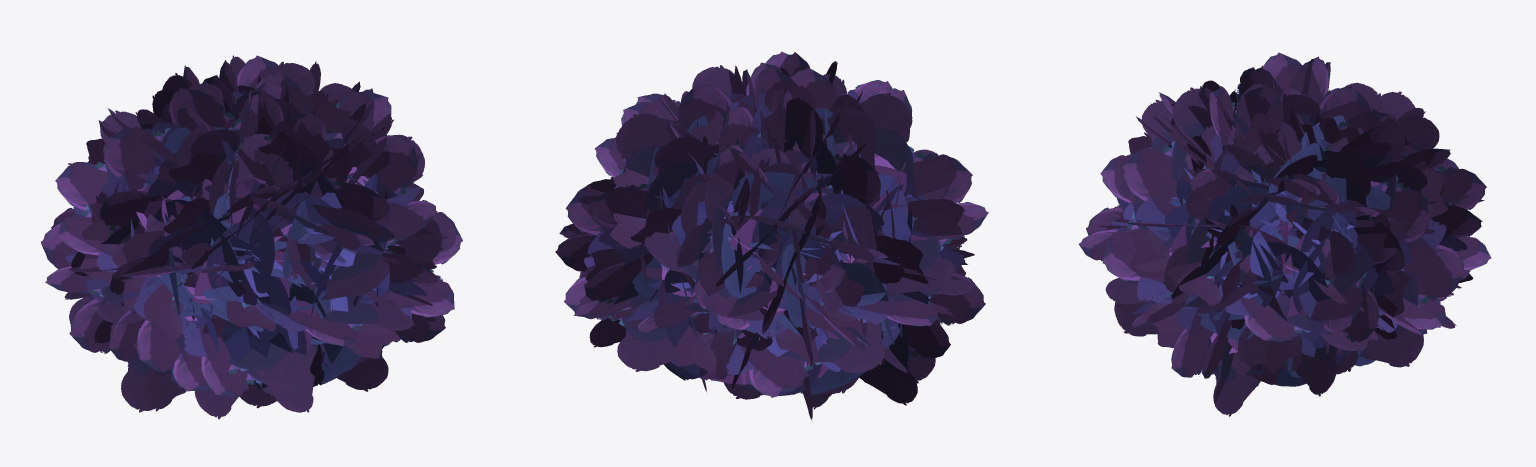
Rendered from bushes.fbx.
3 views of the same model, side by side, from view 1: azimuth 30°, elevation 25°; view 2: azimuth 150°, elevation 25°; view 3: azimuth 270°, elevation 25° (orthographic). The views are drawn at different scales.
Visible parts, largest first — view 1: Leaf.001; view 2: Leaf.001; view 3: Leaf.001.
Part boxes in pixels (<box>): Leaf.001: <box>40,55,462,419</box>; Leaf.001: <box>555,51,988,421</box>; Leaf.001: <box>1078,52,1491,416</box>.
Bounding box in the file's own units: 336 × 284 × 333.
